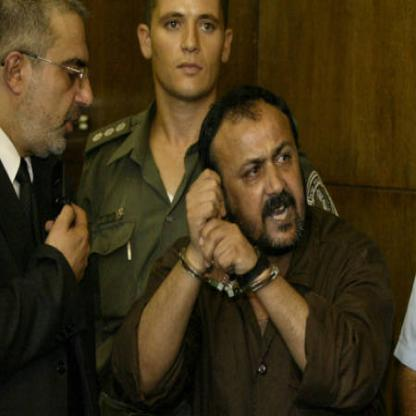face: (218, 88, 309, 254), (24, 1, 105, 158), (150, 1, 229, 101)
